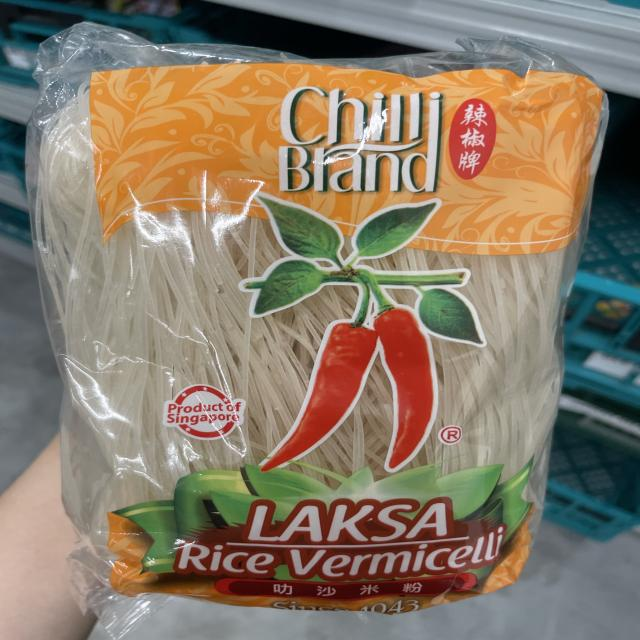object_name: (68, 64, 527, 602)
